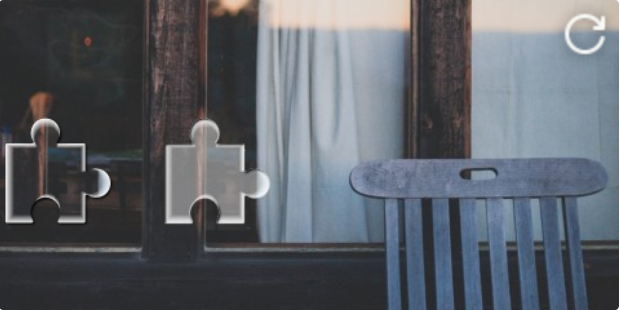target: (164, 118, 270, 223)
